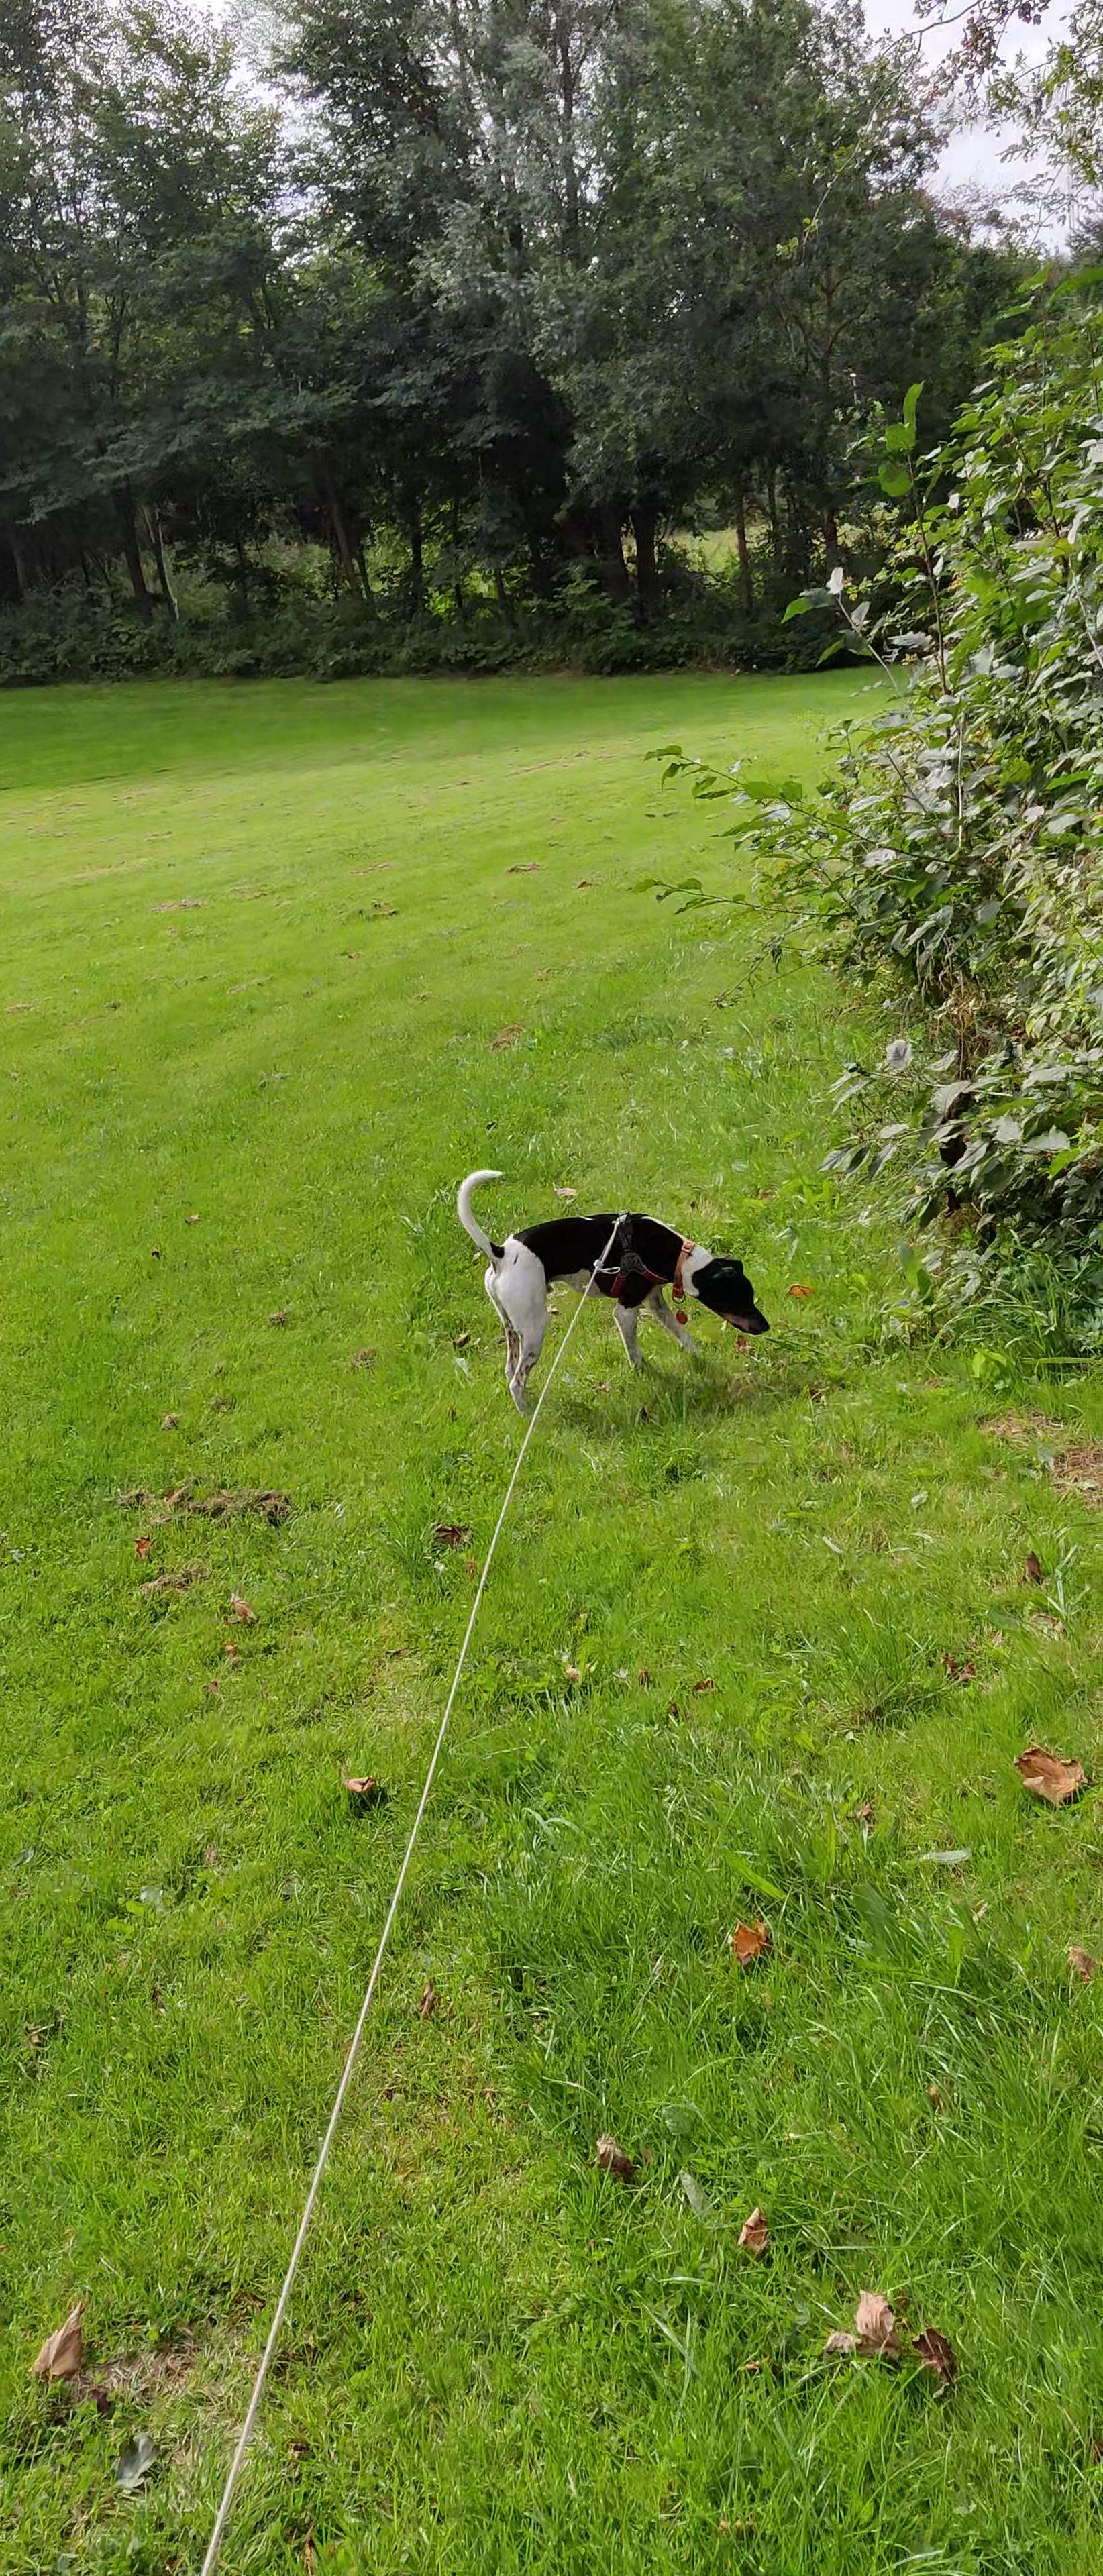Dog: (447, 1165, 774, 1418)
